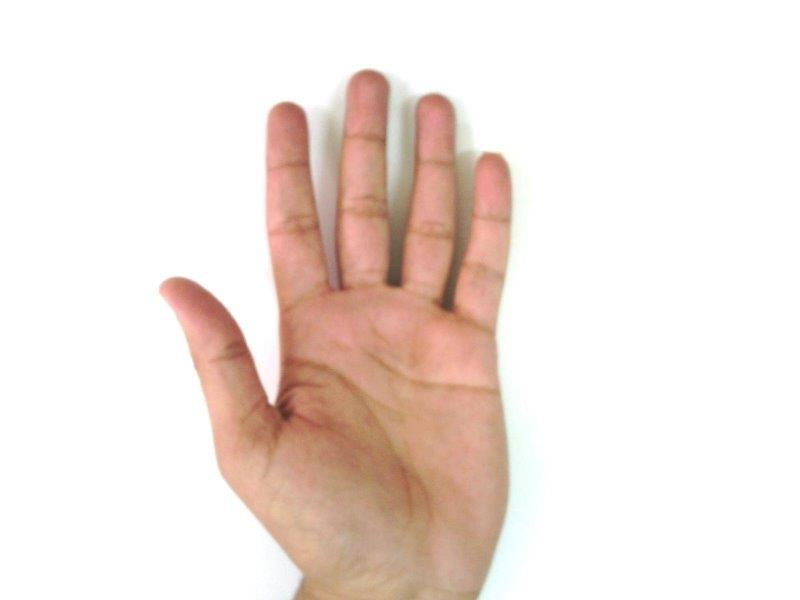hand: (161, 71, 511, 587)
